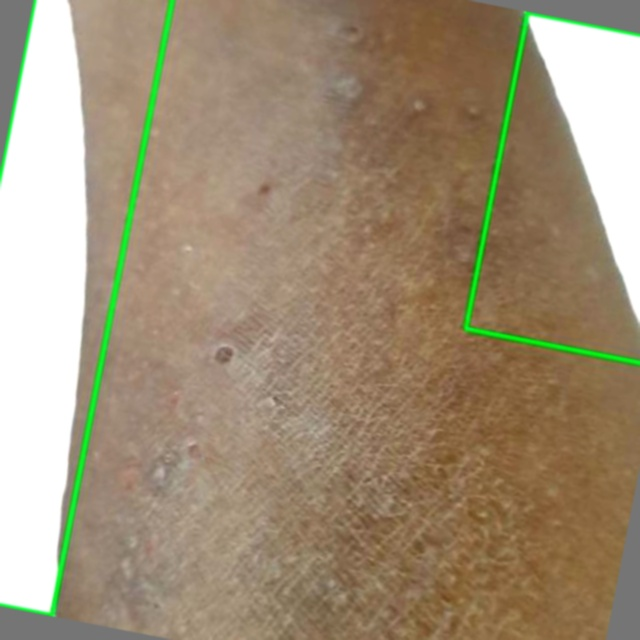Contact Dermatitis: (0, 0, 171, 615), (465, 12, 639, 362)
